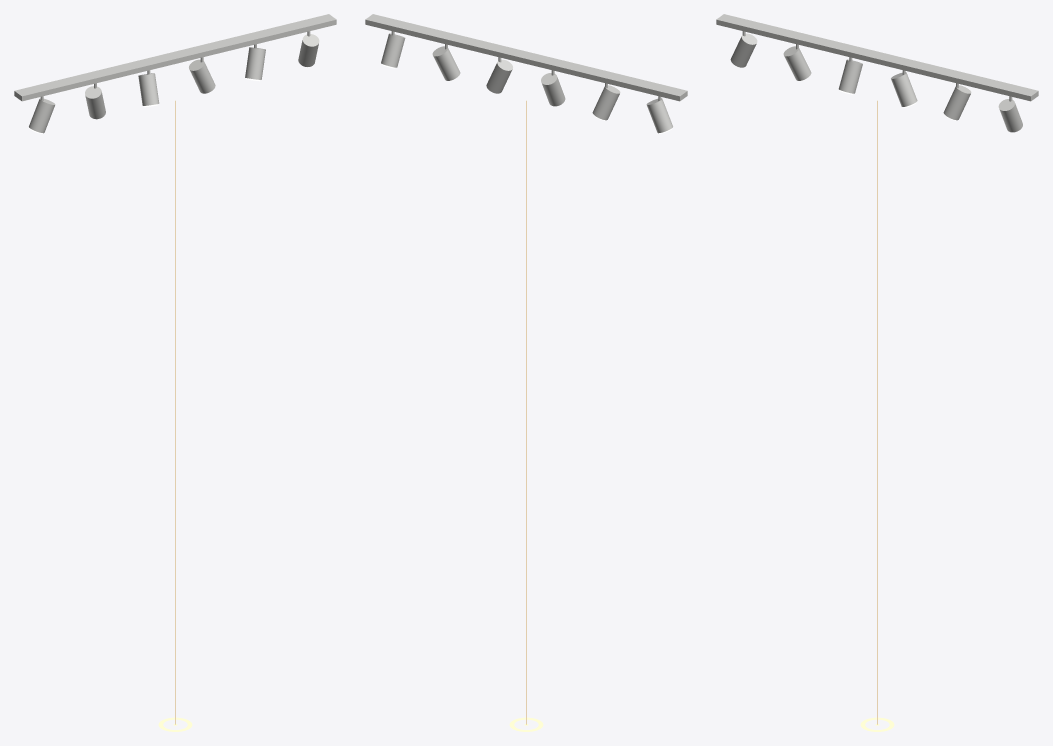
Rendered from plafonnier-blanc-moderne-6-spots-orientables-modele-arvella.glb.
3 views of the same model, side by side, from view 1: azimuth 30°, elevation 25°; view 2: azimuth 150°, elevation 25°; view 3: azimuth 330°, elevation 25° (orthographic).
Visible parts, largest first — view 1: plafonnier-blanc-moderne-6-spots-orientables-modele-arvella, reperage-fil; view 2: plafonnier-blanc-moderne-6-spots-orientables-modele-arvella, reperage-fil; view 3: plafonnier-blanc-moderne-6-spots-orientables-modele-arvella, reperage-fil.
Boxes of the visible parts, x1,y1,x2,y2 form: plafonnier-blanc-moderne-6-spots-orientables-modele-arvella: (14,14,336,133); reperage-fil: (175,100,175,724); plafonnier-blanc-moderne-6-spots-orientables-modele-arvella: (365,14,687,133); reperage-fil: (526,100,526,724); plafonnier-blanc-moderne-6-spots-orientables-modele-arvella: (716,14,1038,132); reperage-fil: (877,100,877,724).
Size of the model in its own units: 1.18 by 2.4 by 0.11.
